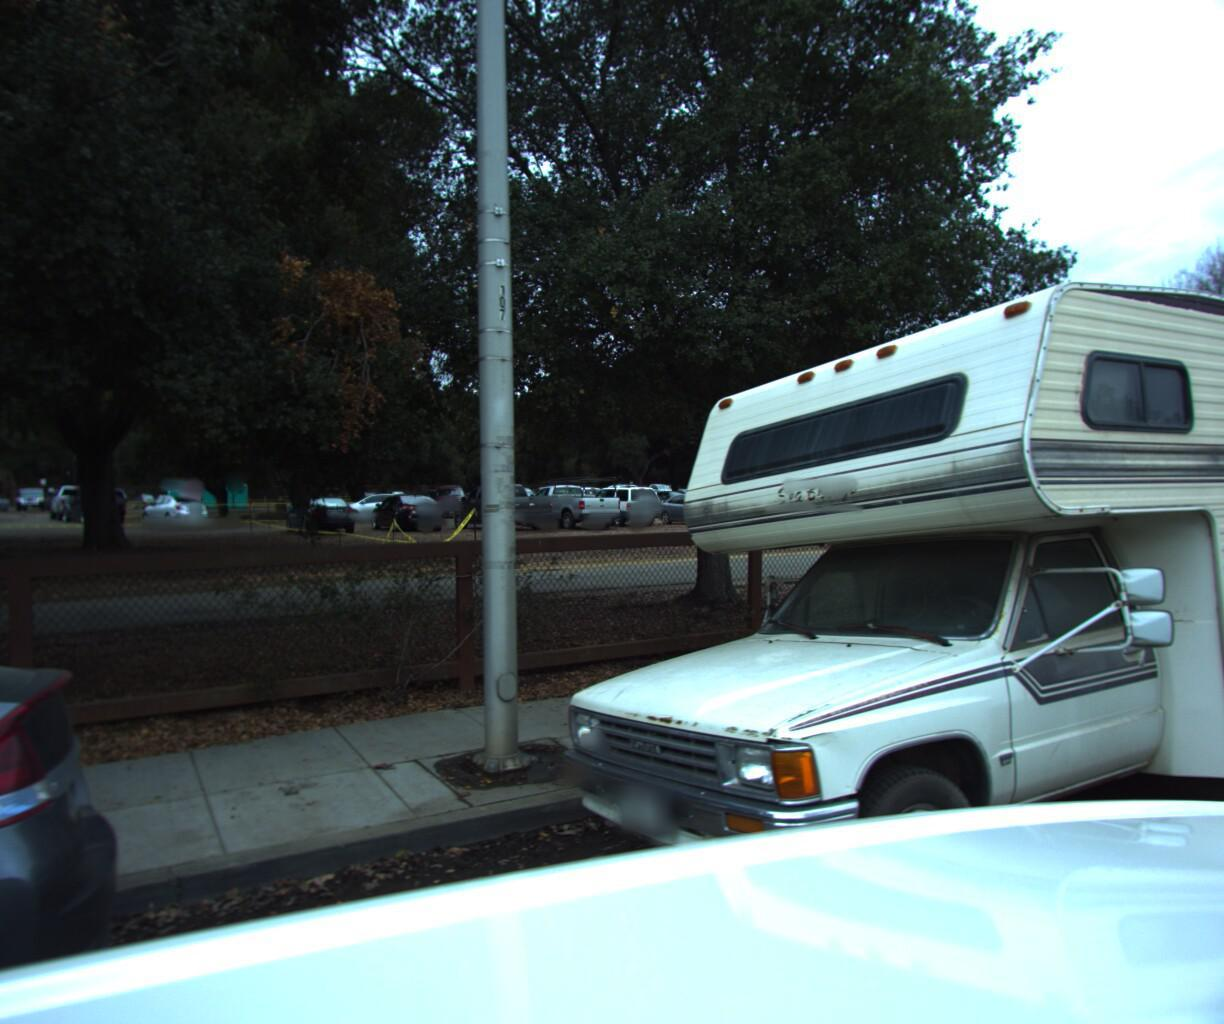other_vehicle: (475, 94, 1224, 1024)
